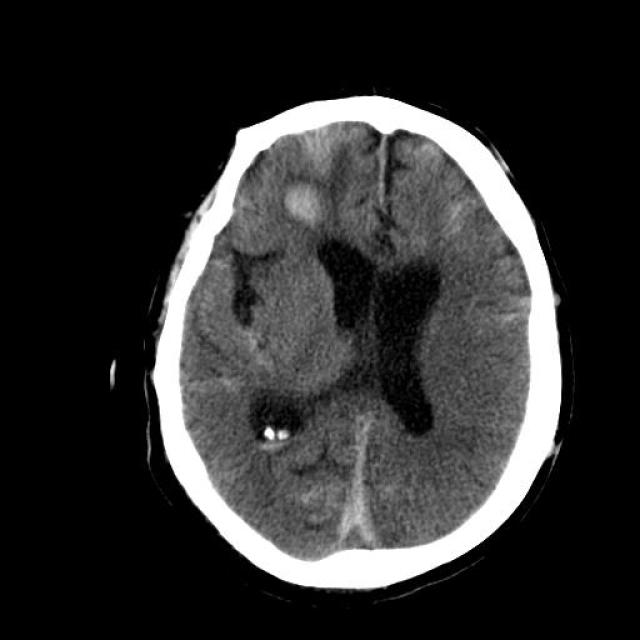Intraparenchymal: (260, 142, 366, 234)
Subarachnoid: (456, 276, 529, 346), (184, 358, 248, 412), (425, 200, 473, 255)
Subdural: (331, 406, 391, 565)
